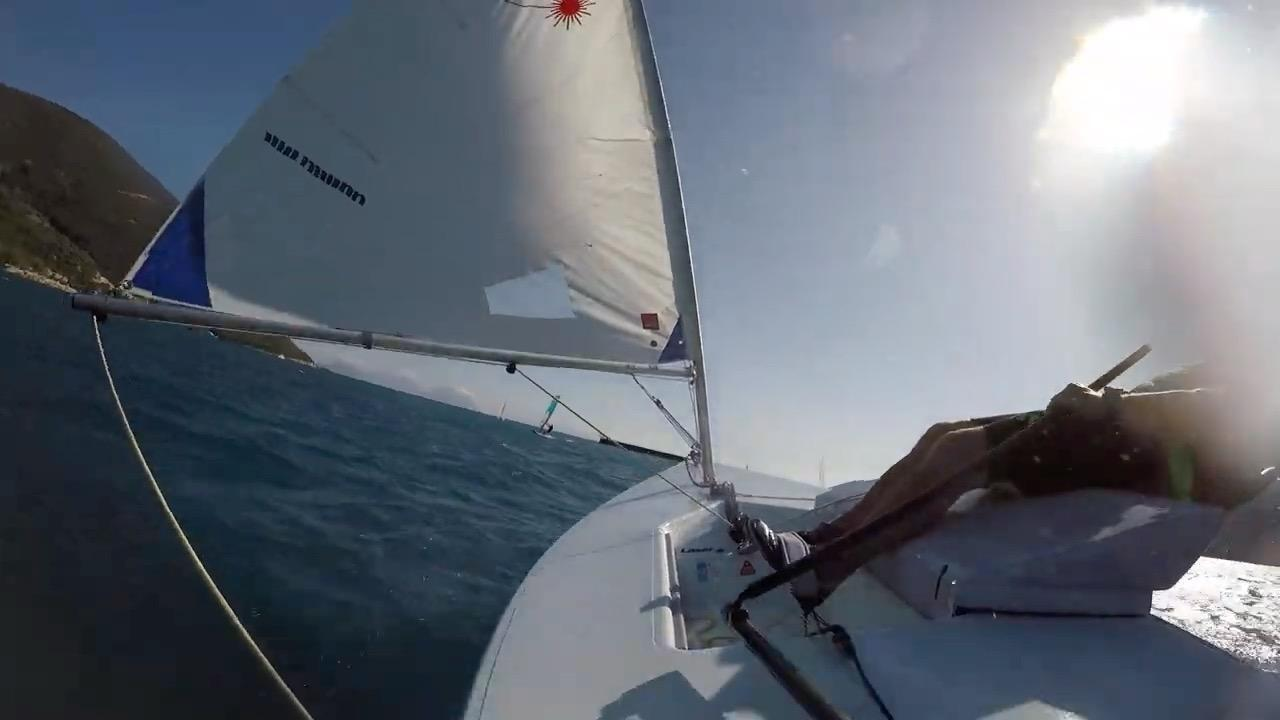boat: (121, 0, 1262, 720)
land: (0, 83, 180, 296), (107, 299, 314, 364)
person: (732, 348, 1280, 634)
sea: (0, 271, 677, 720), (1155, 559, 1280, 675)
sky: (642, 0, 1280, 487), (0, 0, 354, 200), (292, 340, 697, 459)
